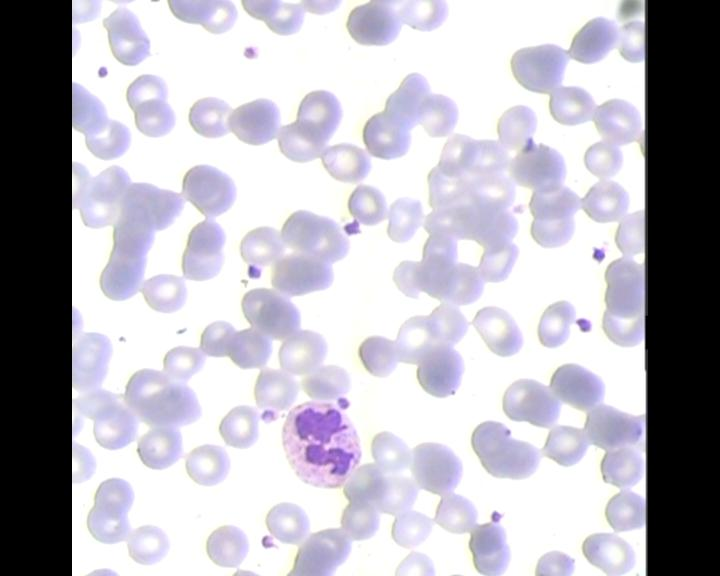neut: (283, 402, 365, 487)
